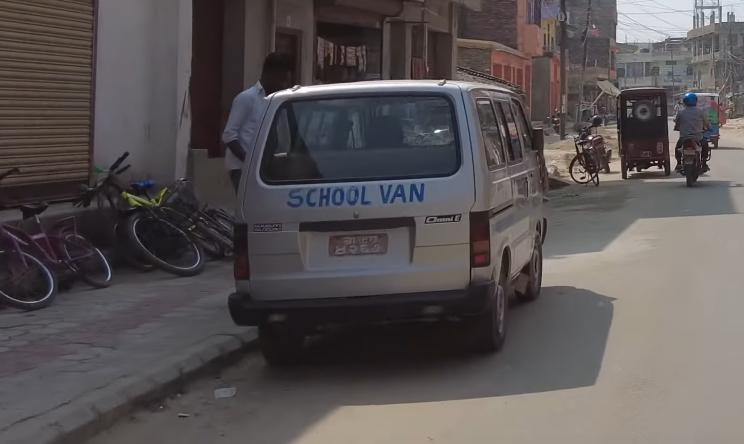e-rickshaw: (615, 86, 674, 181)
van: (227, 70, 563, 365)
